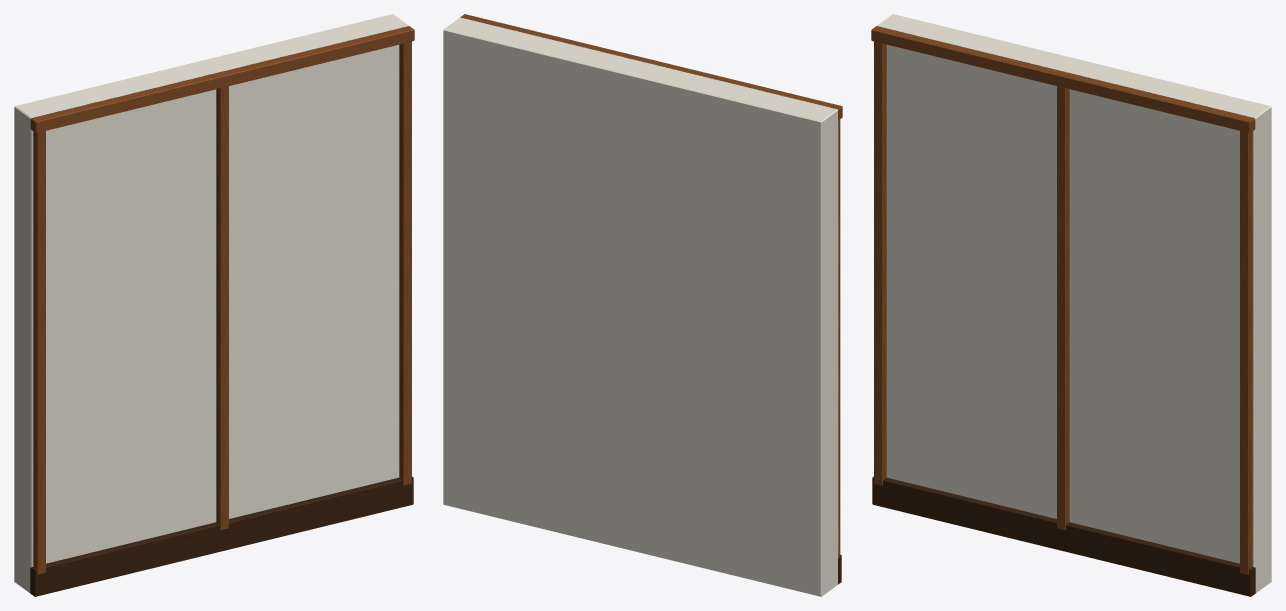
The model's file is wall-panel.glb.
3 views of the same model, side by side, from view 1: azimuth 30°, elevation 25°; view 2: azimuth 150°, elevation 25°; view 3: azimuth 330°, elevation 25° (orthographic).
Parts seen in each view (by area): view 1: wall-panel; view 2: wall-panel; view 3: wall-panel.
Part boxes in pixels (box(x1,y1,x2,y2)): wall-panel: box(14, 14, 414, 596); wall-panel: box(443, 14, 842, 596); wall-panel: box(871, 14, 1271, 596).
Bounding box in the file's own units: 2 × 2.4 × 0.2.
3 materials, 2 textured.
